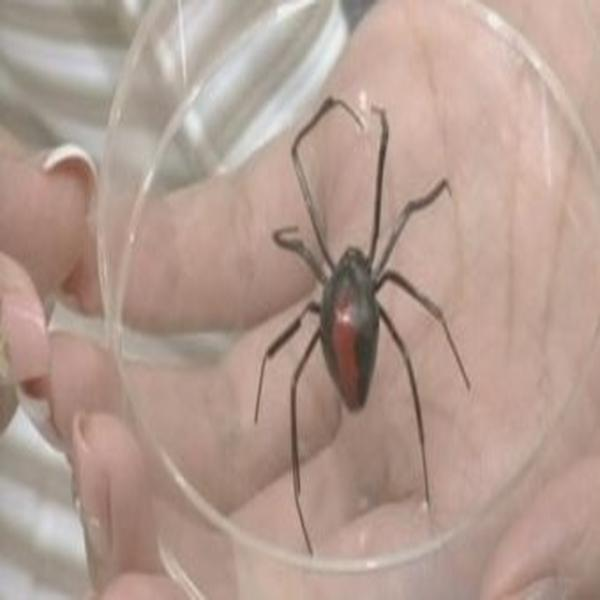Redback Spider: (253, 99, 471, 552)
